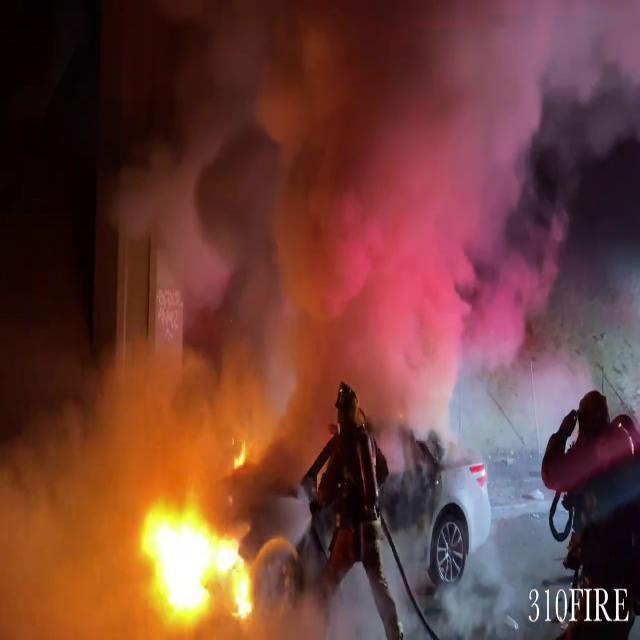Fire: (131, 484, 267, 630)
Smoke: (98, 0, 640, 436), (0, 338, 163, 640)
